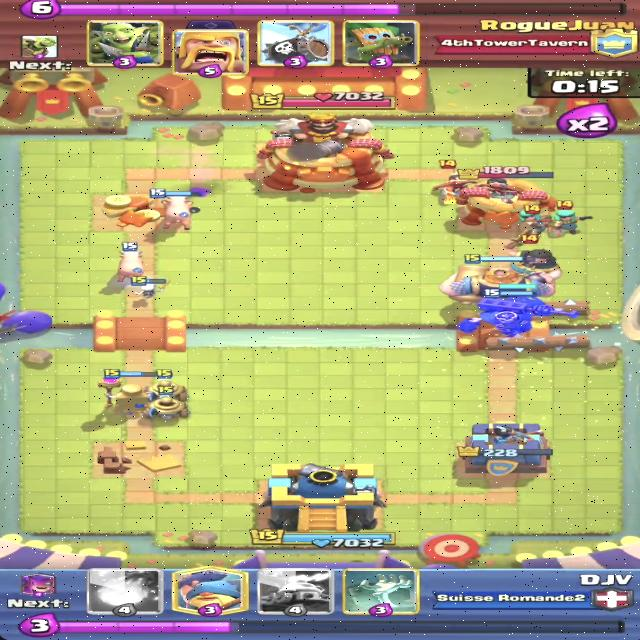Enemy-Log: (486, 332, 594, 353)
Enemy-Princess: (431, 159, 479, 205)
Enemy-RascalBoy: (505, 229, 563, 285)
Enemy-RascalGirl: (546, 200, 595, 237), (519, 205, 553, 236)
Player-CursedHog: (149, 188, 205, 231), (115, 240, 145, 284)
Player-Log: (496, 300, 595, 318)
Player-Motherwitch: (98, 368, 154, 414)
Player-RoyalGiant: (438, 253, 557, 306)
Player-Skeleton: (130, 276, 171, 301)
Player-SkeletonKing: (456, 284, 581, 339)
Player-Zappy: (139, 369, 191, 402), (141, 386, 190, 420)
